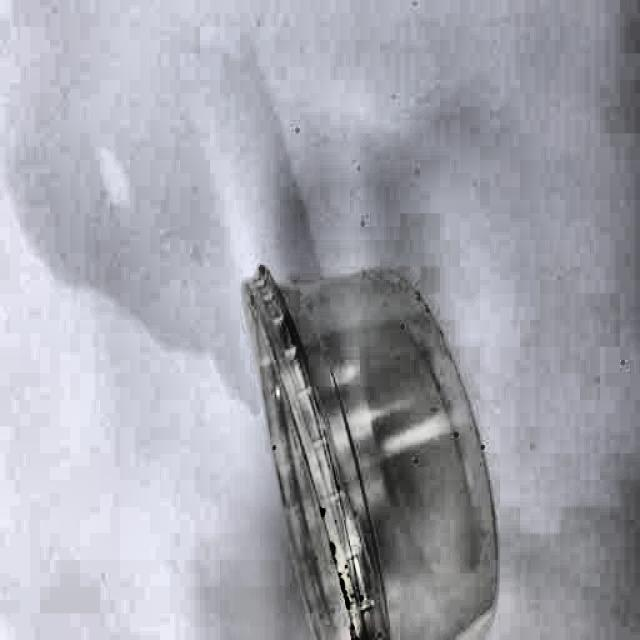plastic: (240, 262, 514, 640)
